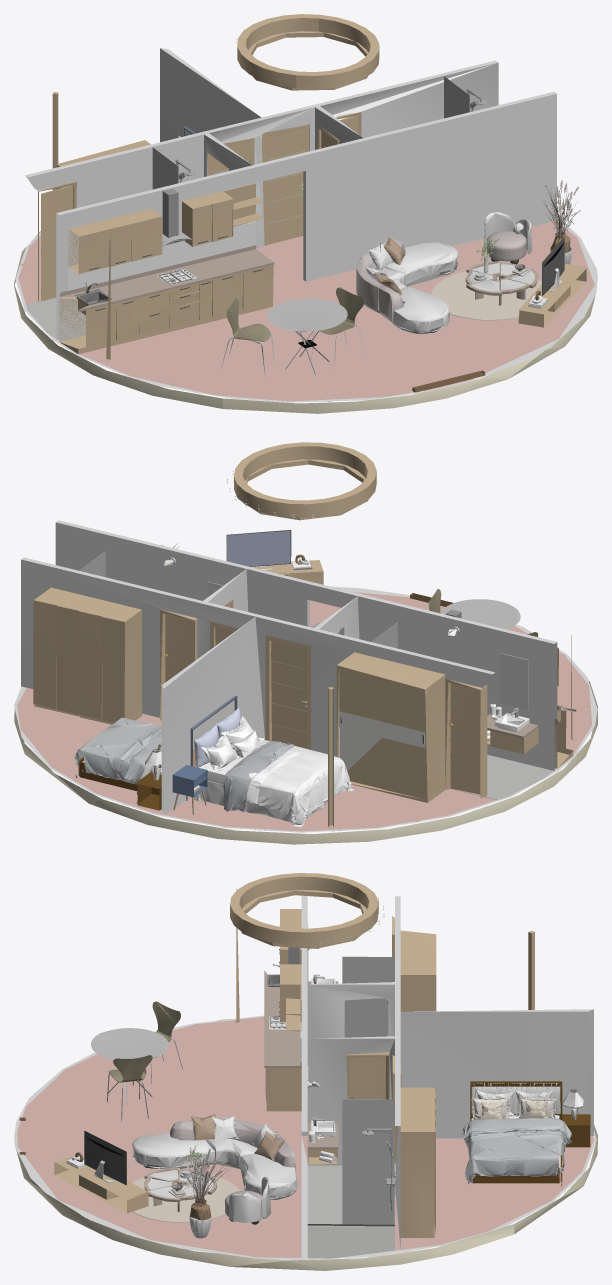
The model's file is layout-c.glb.
3 views of the same model, one above another, from view 1: azimuth 30°, elevation 25°; view 2: azimuth 150°, elevation 25°; view 3: azimuth 270°, elevation 25° (orthographic).
Parts seen in each view (by area): view 1: SKP Vertex Colors, [Encaustic Tile Circular 02], Wood_Veneer_15_1K, [Granite Brown], [Basic Tile], Floor, KAVE_saht150, JianE_Mtl_20218189343924233_1, JianE_Mtl_20218189343924230, JianE_Mtl_20218189343924224__Wood, layout-c, 0-1可变布_4-dy_0-2-灰桔; view 2: SKP Vertex Colors, [Encaustic Tile Circular 02], 淘宝-设计师Vicky的店-布纹-8, Wood_Veneer_15_1K, layout-c, _auto_5, Floor, FF708172-EE1C-49FB-ADE1-4F9D51396EDC, [Mirror 01], [Wood_Cherry_Original]4, download, [Granite Brown]; view 3: SKP Vertex Colors, [Encaustic Tile Circular 02], Wood_Veneer_15_1K, _auto_5, layout-c, Floor, [Granite Brown], [Wood_Cherry_Original]4, KAVE_saht150, JianE_Mtl_20218189343924233_1, 0-1可变布_4-dy_0-2-灰桔, bed 1 (+3 smaller).
Part boxes in pixels (left/top/right/bottom): SKP Vertex Colors: left=14, top=48, right=595, bottom=413; [Encaustic Tile Circular 02]: left=18, top=221, right=594, bottom=401; Wood_Veneer_15_1K: left=20, top=14, right=379, bottom=385; [Granite Brown]: left=59, top=245, right=274, bottom=312; [Basic Tile]: left=68, top=221, right=256, bottom=290; Floor: left=15, top=218, right=597, bottom=402; KAVE_saht150: left=431, top=271, right=541, bottom=320; JianE_Mtl_20218189343924233_1: left=356, top=239, right=405, bottom=322; JianE_Mtl_20218189343924230: left=486, top=231, right=526, bottom=261; JianE_Mtl_20218189343924224__Wood: left=465, top=261, right=538, bottom=305; layout-c: left=26, top=164, right=57, bottom=338; 0-1可变布_4-dy_0-2-灰桔: left=375, top=237, right=405, bottom=294; SKP Vertex Colors: left=14, top=520, right=597, bottom=844; [Encaustic Tile Circular 02]: left=17, top=592, right=592, bottom=831; 淘宝-设计师Vicky的店-布纹-8: left=194, top=715, right=353, bottom=827; Wood_Veneer_15_1K: left=234, top=442, right=590, bottom=827; layout-c: left=227, top=530, right=553, bottom=799; _auto_5: left=74, top=717, right=161, bottom=784; Floor: left=14, top=586, right=597, bottom=832; FF708172-EE1C-49FB-ADE1-4F9D51396EDC: left=223, top=741, right=295, bottom=811; [Mirror 01]: left=208, top=581, right=528, bottom=710; [Wood_Cherry_Original]4: left=78, top=757, right=161, bottom=810; download: left=194, top=707, right=240, bottom=767; [Granite Brown]: left=487, top=706, right=576, bottom=738; SKP Vertex Colors: left=16, top=895, right=597, bottom=1270; [Encaustic Tile Circular 02]: left=17, top=1017, right=593, bottom=1257; Wood_Veneer_15_1K: left=230, top=873, right=534, bottom=1022; _auto_5: left=461, top=1117, right=572, bottom=1186; layout-c: left=307, top=1165, right=394, bottom=1258; Floor: left=14, top=1015, right=596, bottom=1260; [Granite Brown]: left=264, top=970, right=338, bottom=1149; [Wood_Cherry_Original]4: left=470, top=1081, right=590, bottom=1183; KAVE_saht150: left=132, top=1173, right=239, bottom=1222; JianE_Mtl_20218189343924233_1: left=170, top=1119, right=295, bottom=1171; 0-1可变布_4-dy_0-2-灰桔: left=190, top=1114, right=285, bottom=1161; bed 1: left=471, top=1097, right=556, bottom=1120.
Bounding box in the file's own units: 10.01 × 4.66 × 10.02.
